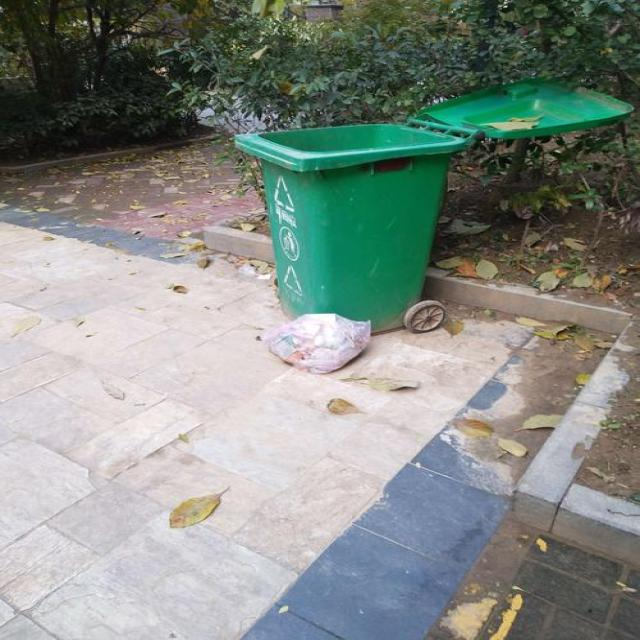garbage: (266, 311, 371, 374)
garbage_bin: (239, 123, 465, 332)
